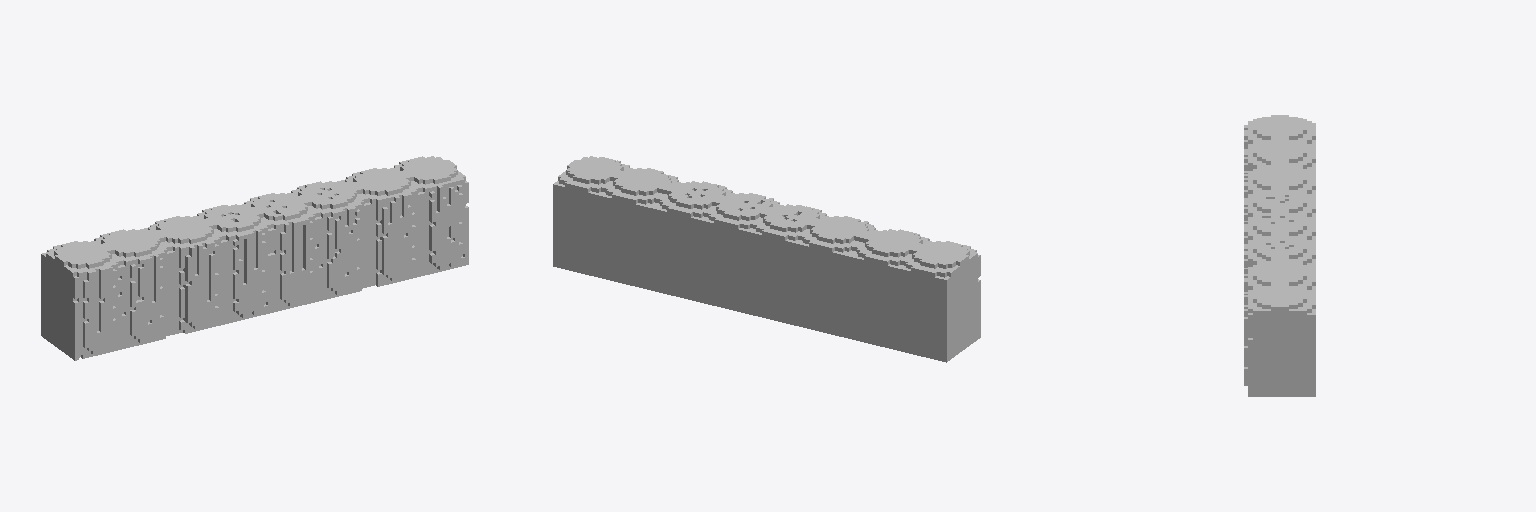
File: mrtvy_plot.obj
The picture shows the model from 3 angles: view 1: azimuth 30°, elevation 25°; view 2: azimuth 150°, elevation 25°; view 3: azimuth 270°, elevation 25°; orthographic projection.
Parts seen in each view (by area): view 1: object 1; view 2: object 1; view 3: object 1.
Boxes of the visible parts, x1=… form: object 1: x1=41, y1=156, x2=468, y2=360; object 1: x1=553, y1=156, x2=980, y2=362; object 1: x1=1244, y1=115, x2=1315, y2=396.
Size of the model in its own units: 10 by 2.2 by 1.6.